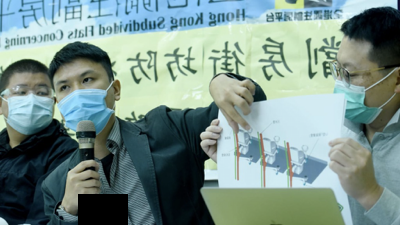with_mask: (330, 56, 394, 127), (52, 68, 114, 139), (0, 79, 56, 137)
